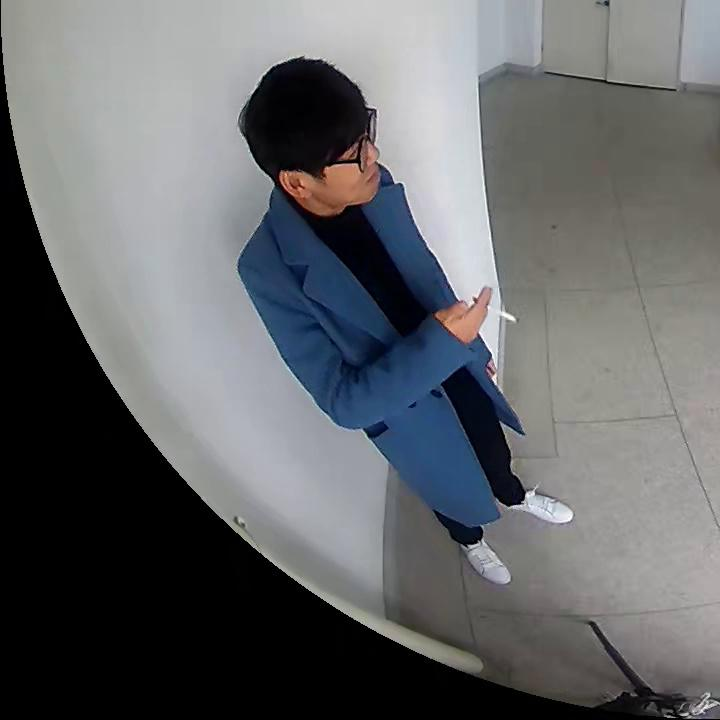handsmoke: (460, 284, 521, 328)
mouthwithoutsmoke: (241, 58, 380, 209)
